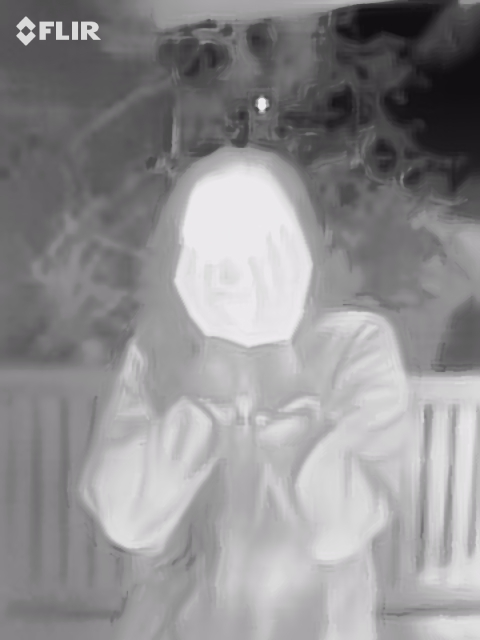head: (175, 159, 311, 344)
